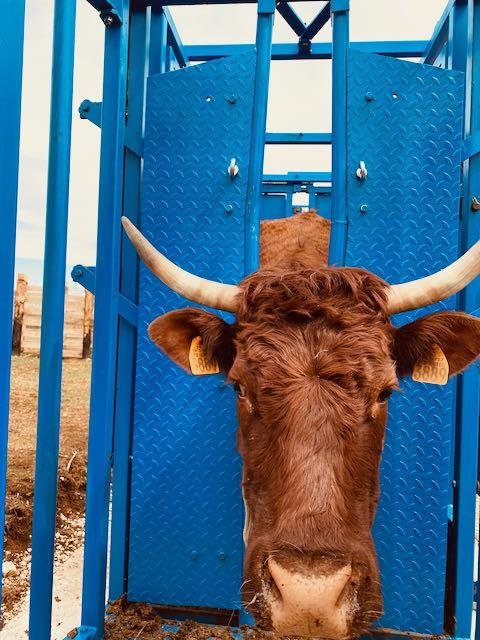muzzles: (238, 537, 388, 639)
